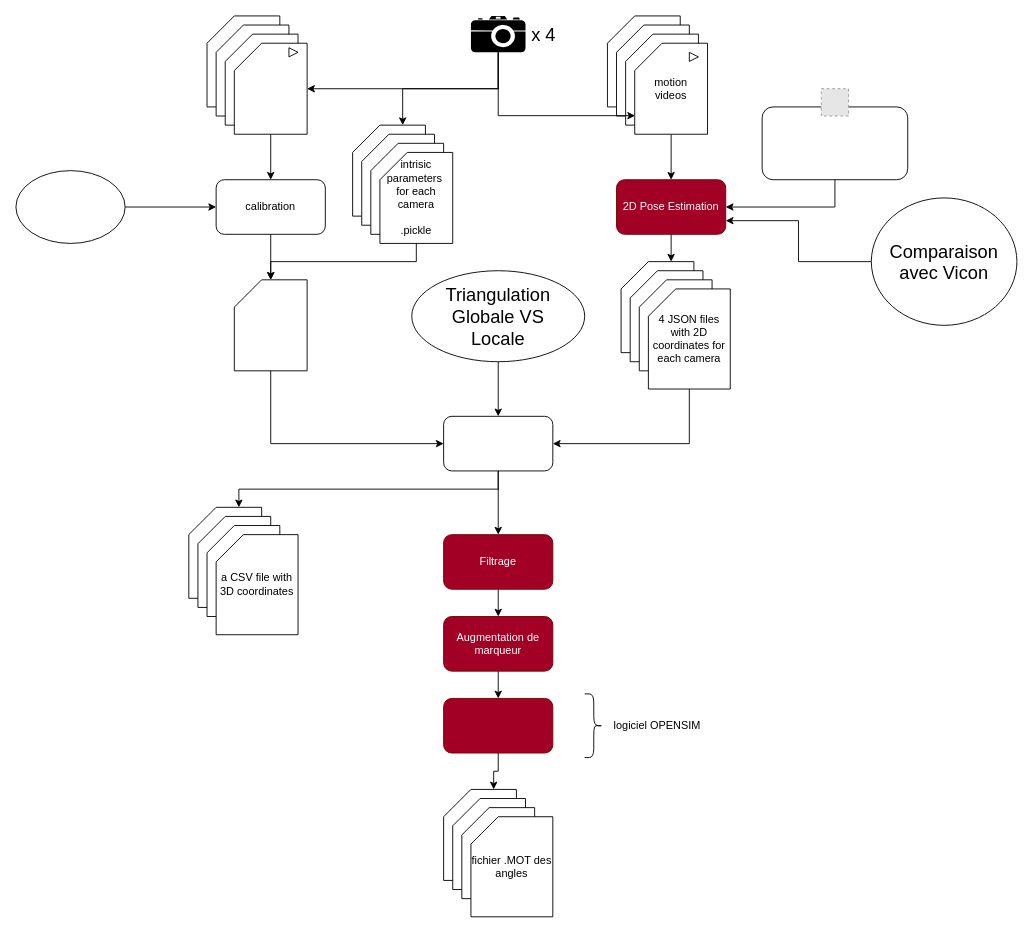
This 1033x933 diagram has some shape labels left out. Grey dashed boxes stand in for pictures. Each missing label, with the centre of its shape:
"a HDF5 file with calibration parameters" belongs at [270,325].
"chessboard videos" belongs at [270,88].
"Scaling et Cinématique Inverse" belongs at [498,725].
"Test" belongs at [70,206].
"triangulation" belongs at [498,443].
"YOLO + RTMPose (Halpe26)" belongs at [834,143].
